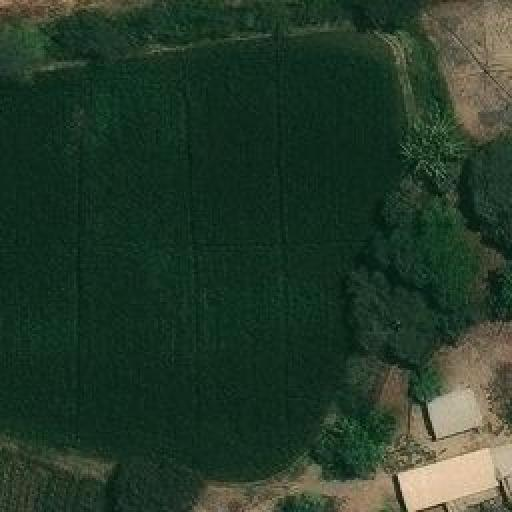manzanas: (396, 387, 510, 510)
